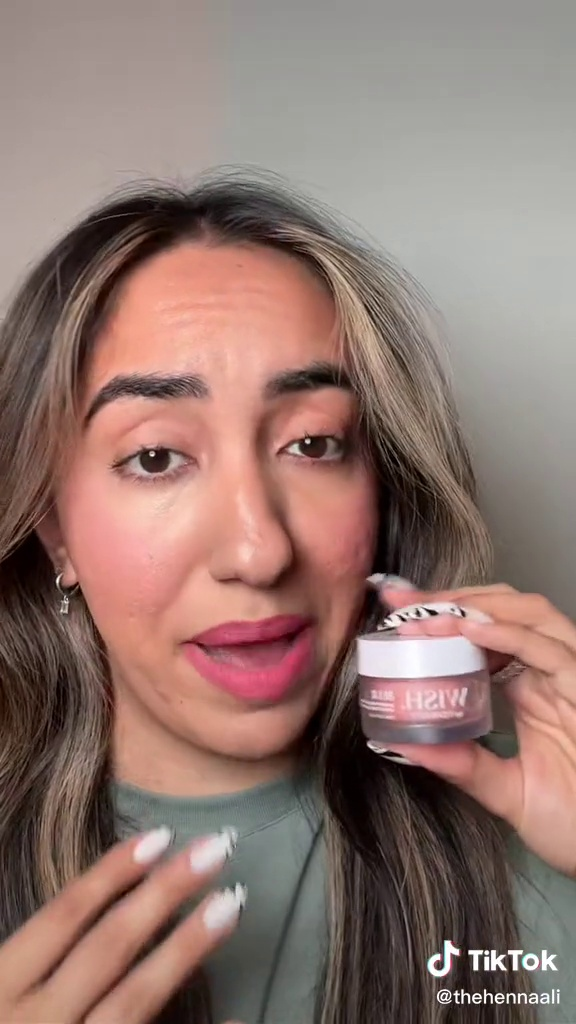train' :'yolo_data/train/images',: (345, 626, 497, 761)
